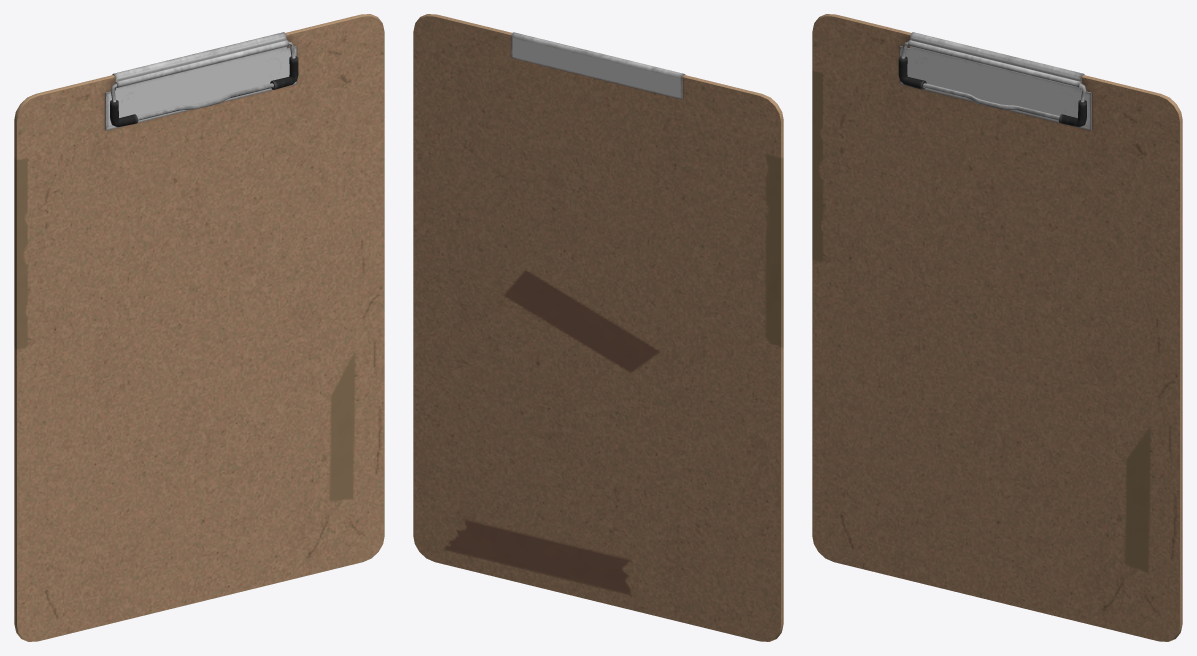
The model's file is S_ClipBoard_Free.fbx.
The picture shows the model from 3 angles, left to right: view 1: azimuth 30°, elevation 25°; view 2: azimuth 150°, elevation 25°; view 3: azimuth 330°, elevation 25°; orthographic projection.
Visible parts, largest first — view 1: Sm_ClipBoardClean; view 2: Sm_ClipBoardClean; view 3: Sm_ClipBoardClean.
Part boxes in pixels (<box>): Sm_ClipBoardClean: <box>14,14,384,641</box>; Sm_ClipBoardClean: <box>413,14,783,641</box>; Sm_ClipBoardClean: <box>812,14,1182,641</box>.
Bounding box in the file's own units: 22.73 × 32.25 × 1.13.
